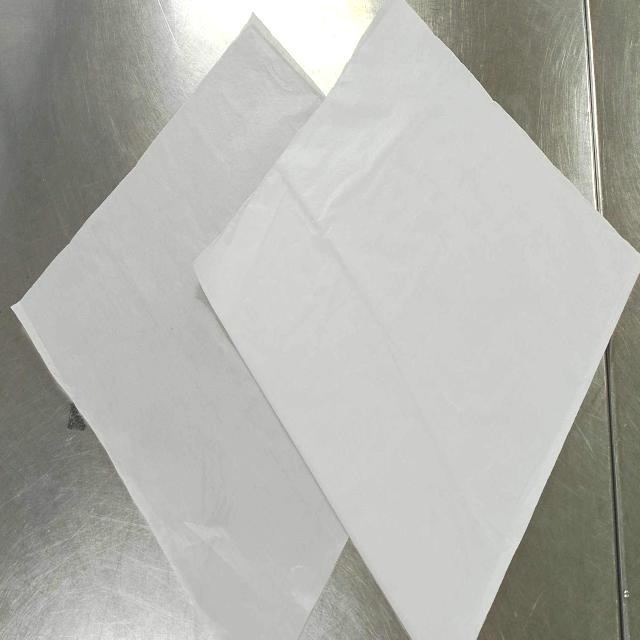General: (10, 1, 638, 637)
Sharps: (67, 401, 87, 431)
